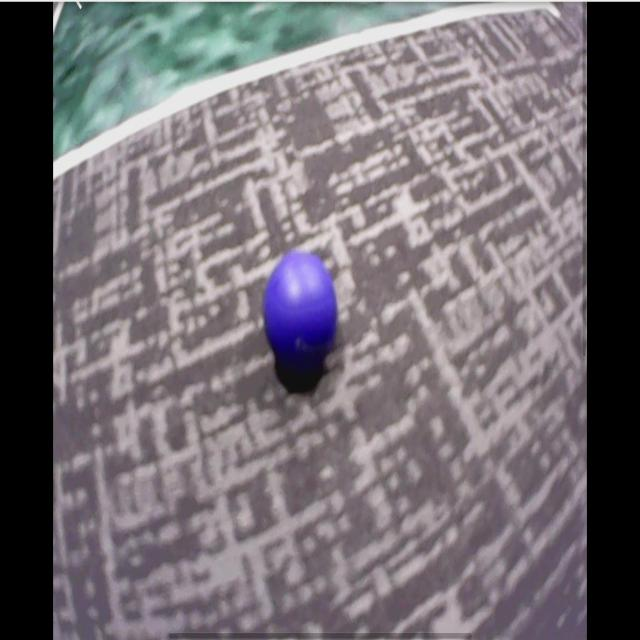ball: (264, 252, 338, 361)
